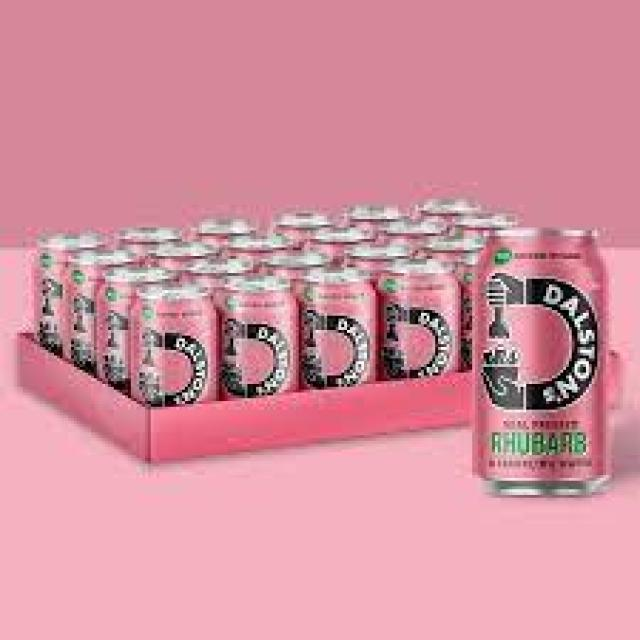Cans: (461, 216, 620, 506)
